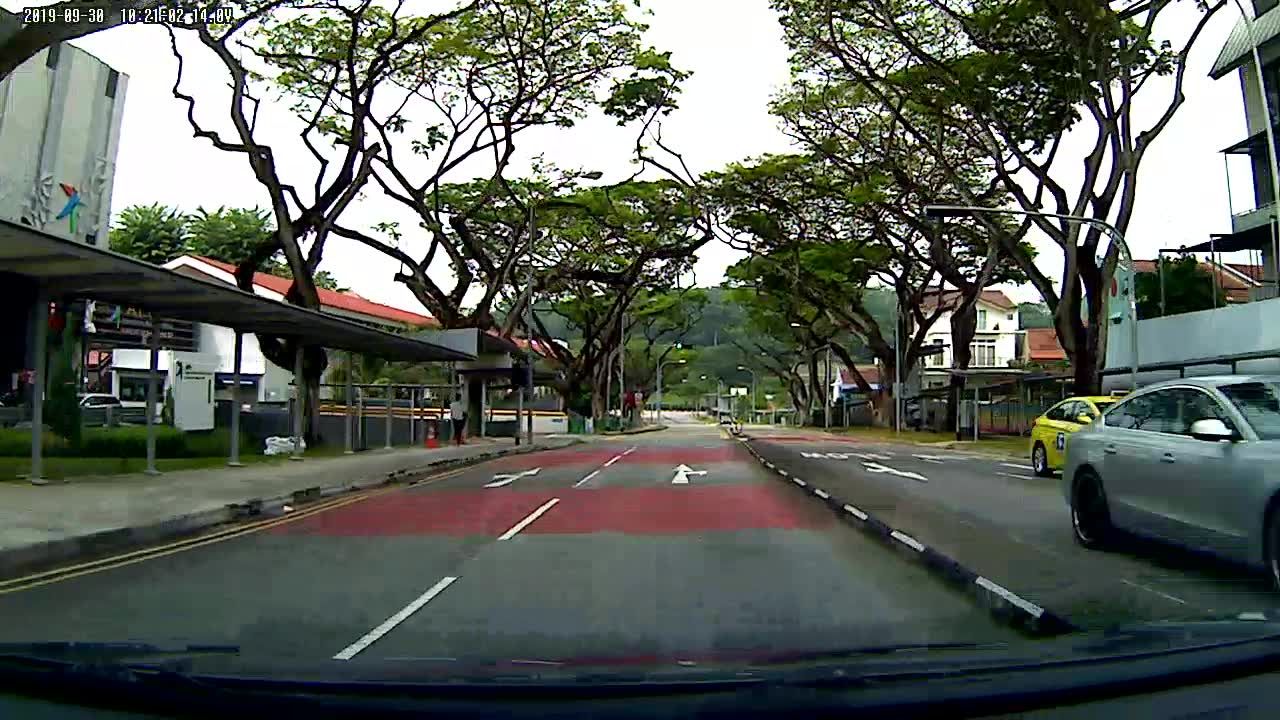car: (1029, 373, 1280, 582)
